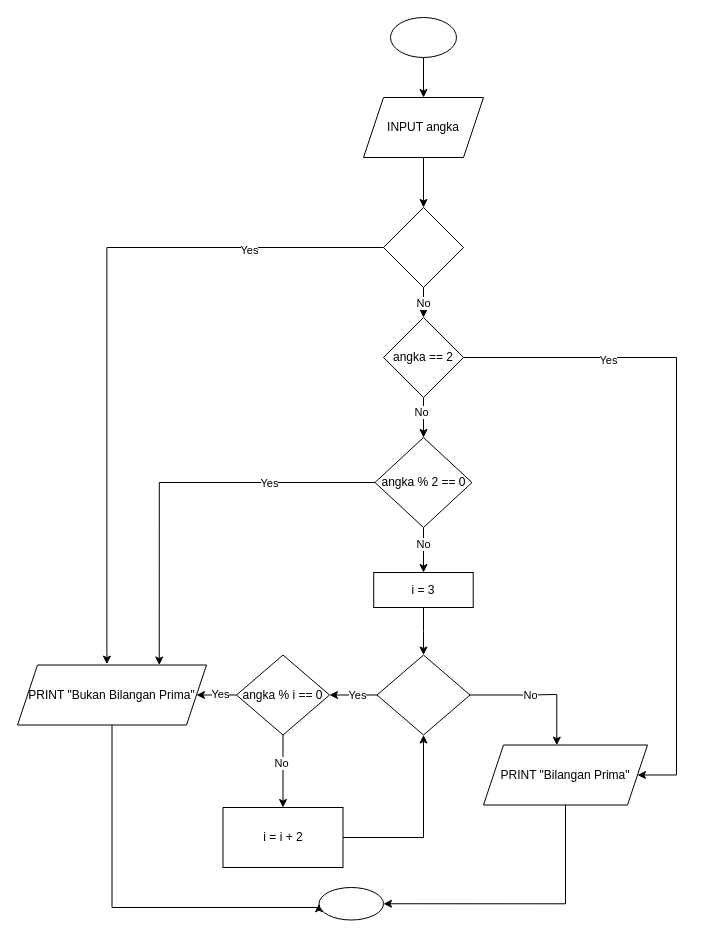
This 702x938 diagram has some shape labels left out. Each missing label, with the centre of its shape:
"angka <= 1" belongs at (x=423, y=247).
"end" belongs at (x=351, y=903).
"i * i <= angka" belongs at (x=423, y=694).
"start" belongs at (x=423, y=37).
